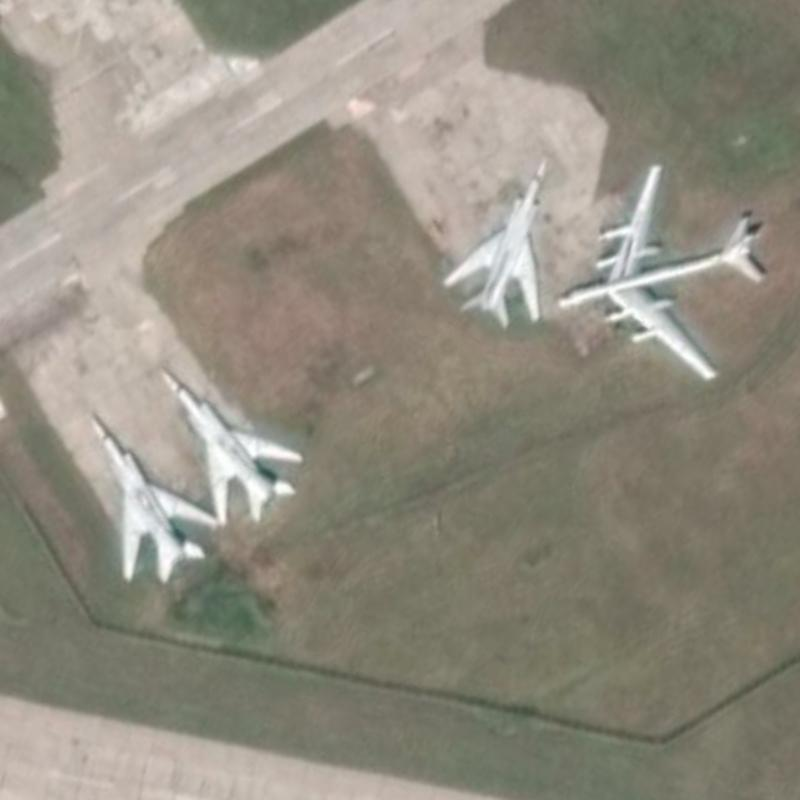A12: (156, 364, 305, 526), (86, 413, 220, 584), (438, 154, 548, 328)
A17: (550, 160, 767, 382)
